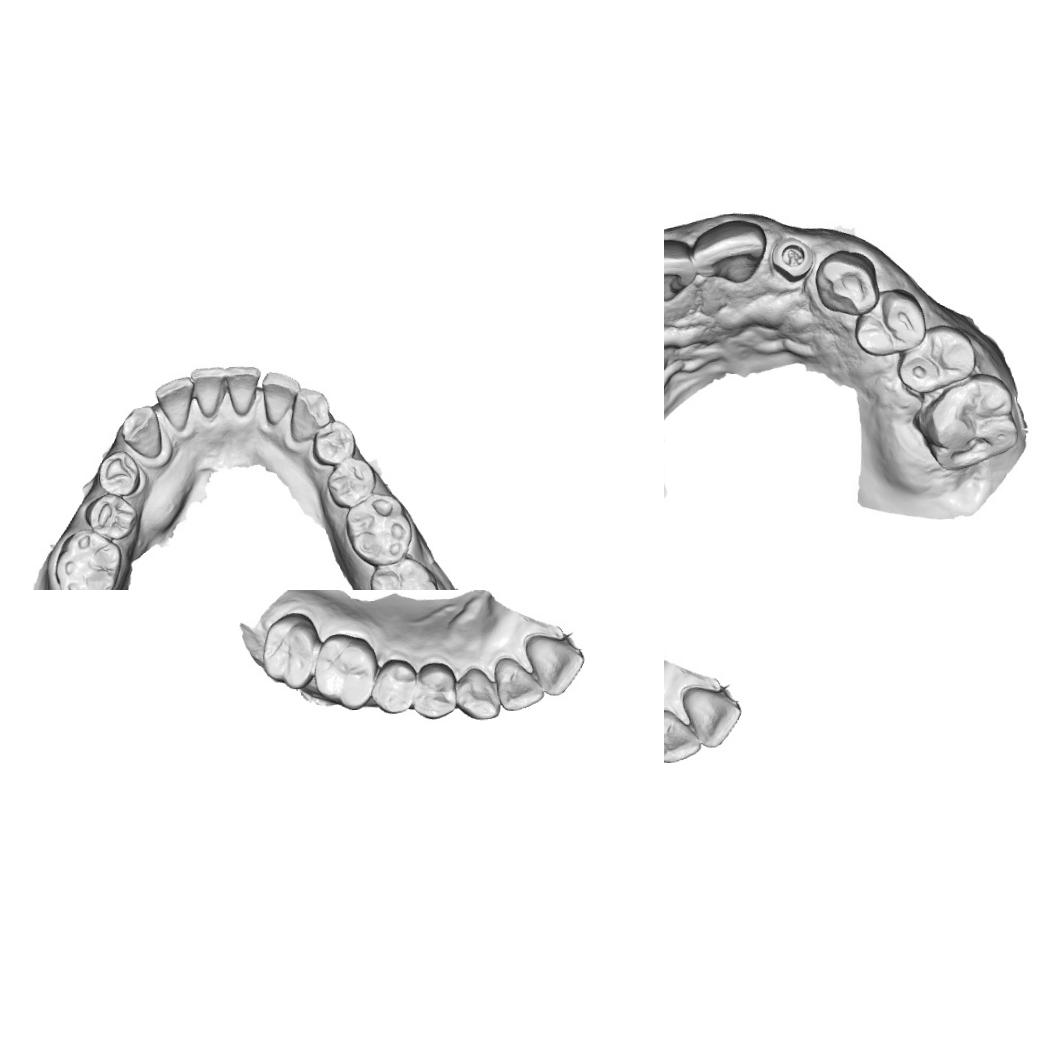canine: (811, 247, 883, 318), (453, 664, 502, 722), (286, 384, 333, 442), (117, 403, 164, 461)
implant: (770, 235, 812, 282)
incisor: (690, 218, 771, 287), (678, 682, 744, 750), (522, 630, 586, 698), (492, 654, 546, 713), (258, 367, 303, 427), (153, 374, 197, 433), (664, 705, 703, 765), (222, 362, 262, 417), (664, 234, 696, 302), (188, 364, 226, 420)
molar: (912, 370, 1020, 475), (309, 628, 378, 714), (341, 490, 416, 569), (257, 609, 322, 691), (50, 525, 125, 590), (366, 555, 441, 590)
premolar: (892, 322, 979, 396), (850, 286, 928, 358), (366, 656, 419, 716), (409, 659, 458, 721), (82, 491, 140, 542), (324, 456, 378, 510), (310, 418, 358, 466), (94, 448, 141, 497)
